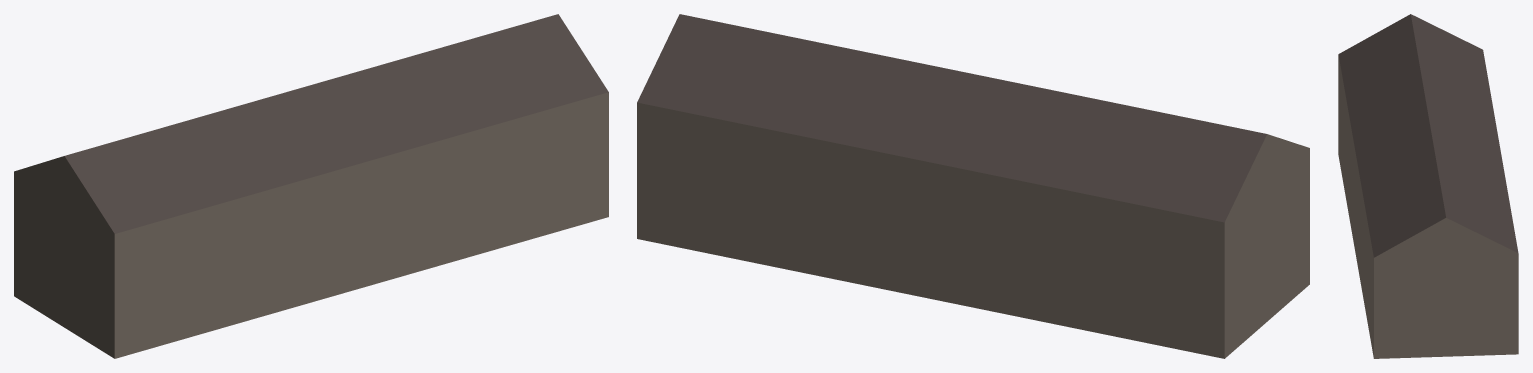
3 renders of one model, left to right at view 1: azimuth 30°, elevation 25°; view 2: azimuth 150°, elevation 25°; view 3: azimuth 270°, elevation 25°, orthographic. The views are drawn at different scales.
Visible parts, largest first — view 1: HP-w859424247; view 2: HP-w859424247; view 3: HP-w859424247.
Boxes of the visible parts, x1=… form: HP-w859424247: x1=14, y1=14, x2=608, y2=358; HP-w859424247: x1=637, y1=14, x2=1309, y2=358; HP-w859424247: x1=1338, y1=14, x2=1518, y2=358.
Size of the model in its own units: 26.52 by 8.25 by 9.69.
